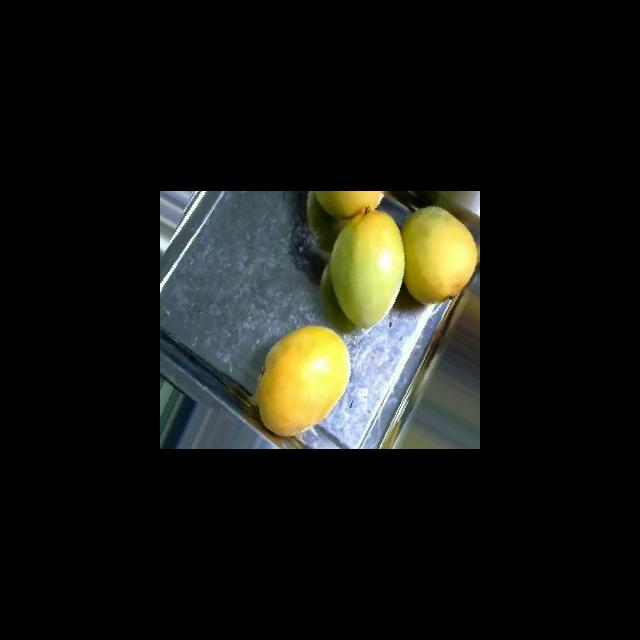Mango: (255, 324, 351, 437), (329, 209, 405, 329), (401, 205, 478, 304)
